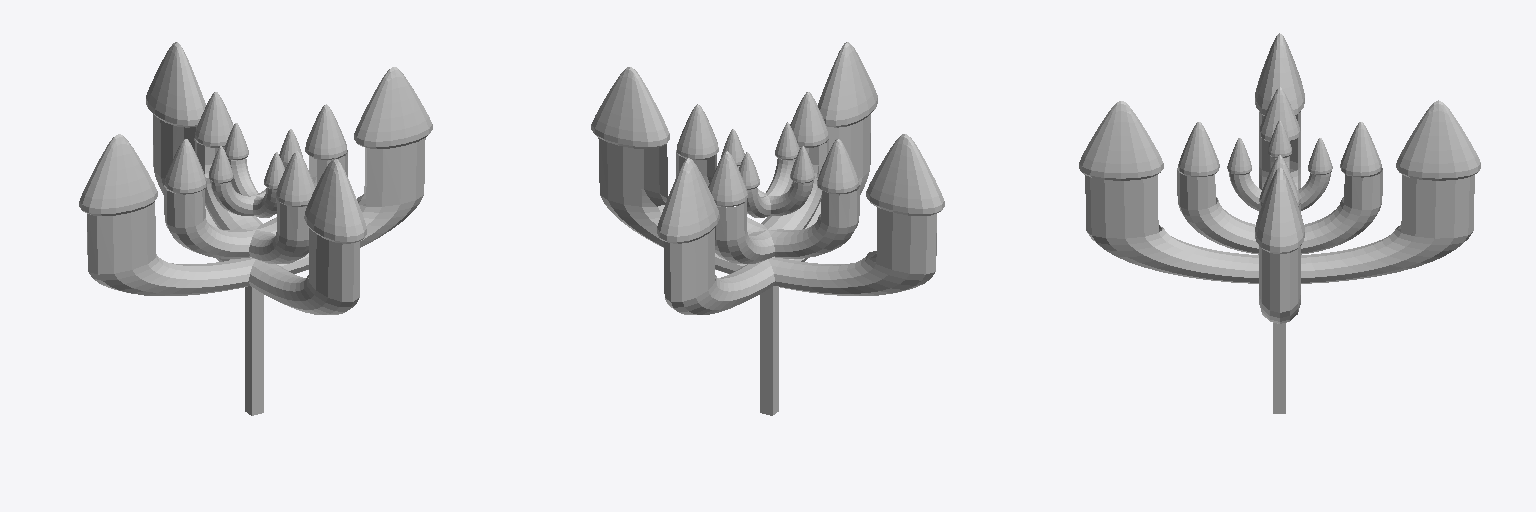
The model's file is chandelure.obj.
3 renders of one model, left to right at view 1: azimuth 30°, elevation 25°; view 2: azimuth 150°, elevation 25°; view 3: azimuth 270°, elevation 25°, orthographic.
Parts seen in each view (by area): view 1: Torus.002, Cube.002, Torus.003, Cube.003, Torus.001, Torus.004, Cube.001, Cube.004, Cube.006, Torus.005, Cube.005, Cube (+1 smaller); view 2: Torus.002, Cube.002, Torus.003, Cube.003, Torus.001, Torus.004, Cube.001, Cube.004, Cube.006, Torus.005, Cube.005, Cube (+1 smaller); view 3: Torus.003, Cube.003, Torus.004, Cube.002, Cube.004, Torus.002, Cube.001, Torus.005, Cube.005, Cube.006, Torus.001, Cube.
Boxes of the visible parts, x1,y1,x2,y2 form: Torus.002: [87, 138, 425, 295]; Cube.002: [79, 67, 432, 215]; Torus.003: [153, 114, 359, 314]; Cube.003: [146, 42, 366, 243]; Torus.001: [164, 150, 347, 258]; Torus.004: [194, 138, 308, 263]; Cube.001: [165, 104, 346, 194]; Cube.004: [195, 92, 315, 206]; Cube.006: [245, 286, 263, 415]; Torus.005: [228, 158, 281, 217]; Cube.005: [224, 123, 284, 189]; Cube: [209, 129, 302, 183]; Torus.002: [598, 138, 936, 295]; Cube.002: [591, 67, 944, 215]; Torus.003: [664, 114, 870, 314]; Cube.003: [657, 42, 877, 243]; Torus.001: [676, 150, 859, 258]; Torus.004: [715, 139, 828, 263]; Cube.001: [677, 104, 858, 194]; Cube.004: [708, 92, 828, 206]; Cube.006: [760, 286, 778, 415]; Torus.005: [743, 158, 795, 217]; Cube.005: [739, 122, 799, 189]; Cube: [721, 129, 814, 183]; Torus.003: [1085, 175, 1474, 283]; Cube.003: [1079, 100, 1480, 180]; Torus.004: [1177, 168, 1382, 254]; Cube.002: [1255, 33, 1304, 253]; Cube.004: [1178, 122, 1381, 177]; Torus.002: [1259, 112, 1300, 323]; Cube.001: [1259, 87, 1300, 205]; Torus.005: [1229, 173, 1330, 210]; Cube.005: [1227, 138, 1332, 174]; Cube.006: [1273, 323, 1285, 413]; Torus.001: [1259, 134, 1300, 211]; Cube: [1268, 121, 1291, 157].
Bounding box in the file's own units: 9.75 × 8.33 × 9.75.